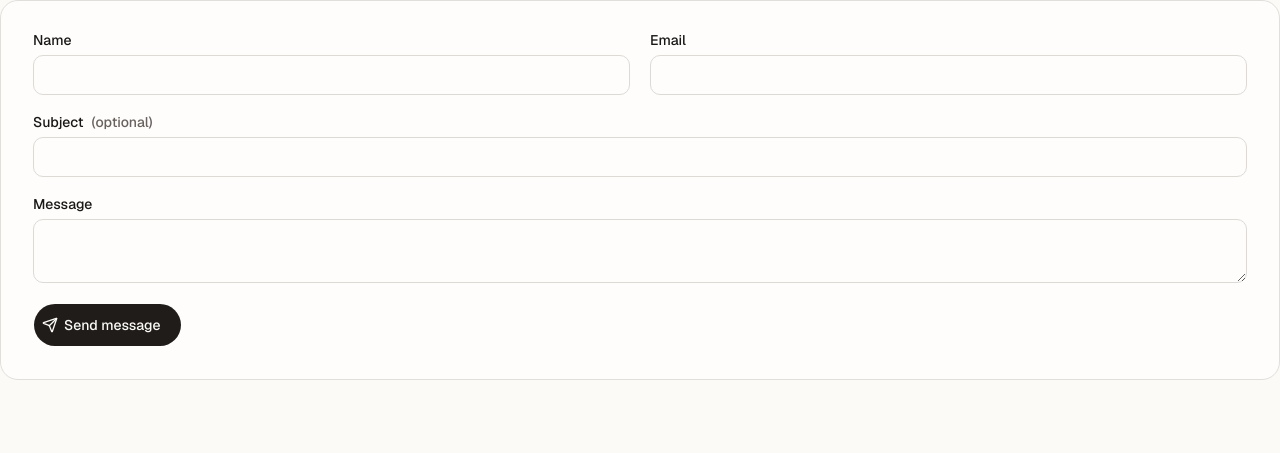
Test: ContactForm › surfaces server errors
This screenshot has width=1280, height=453.
Type "Jamie Doe" into the field labelled "Name" at (332, 75), box [33,55,630,95]
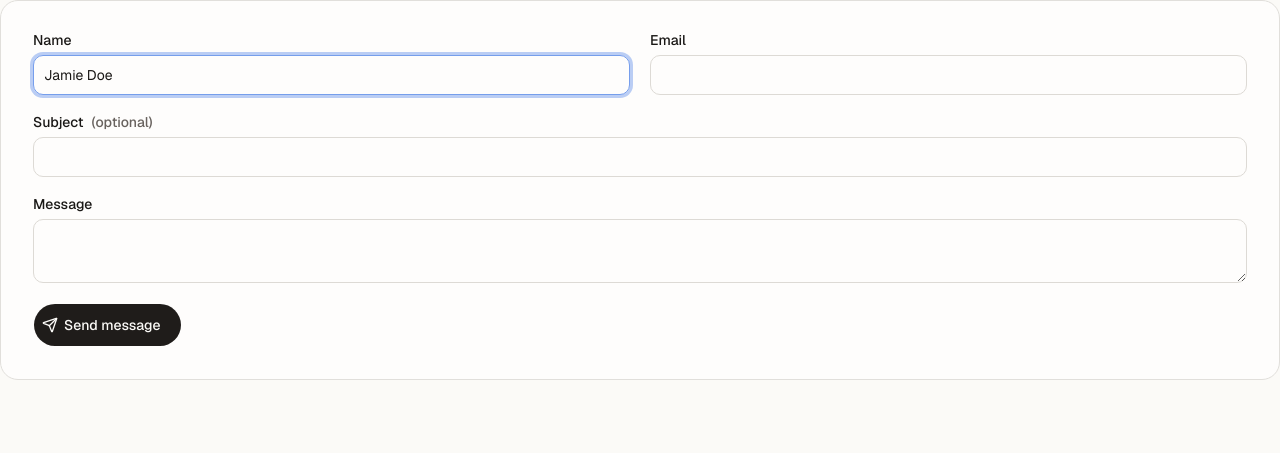
Type "jamie@example.com" into the field labelled "Email" at (948, 75), box [650,55,1247,95]
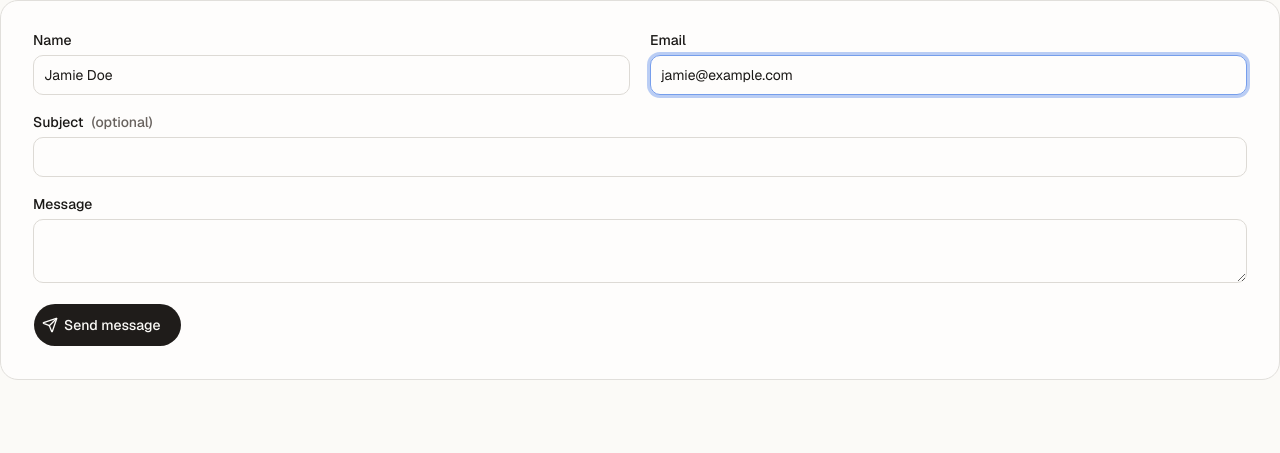
Type "I'd love to work together on a project." into the text box labelled "Message" at (640, 251), box [33,219,1247,283]
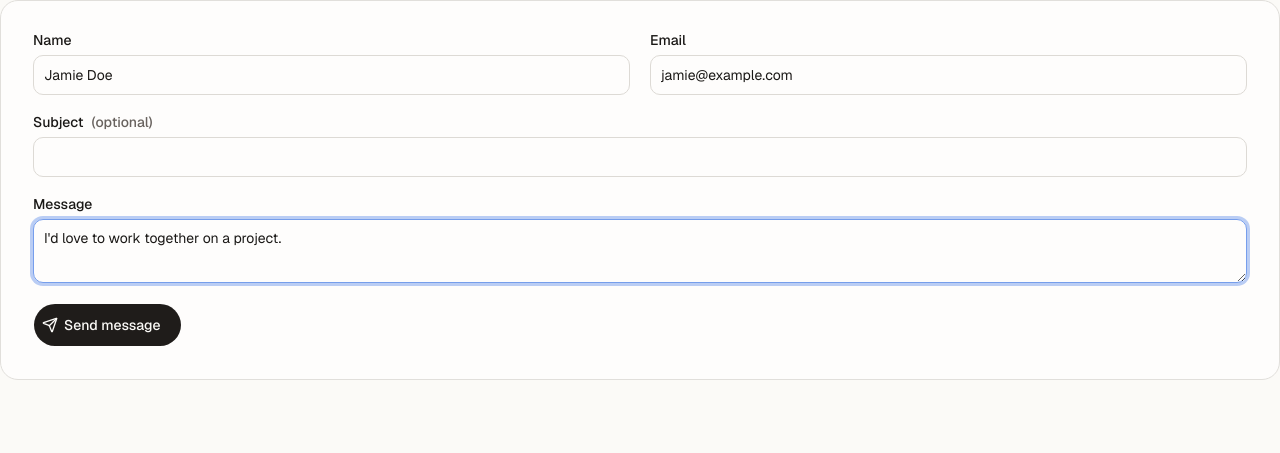
Click the button "Send message" at (107, 325), box [33,303,182,347]
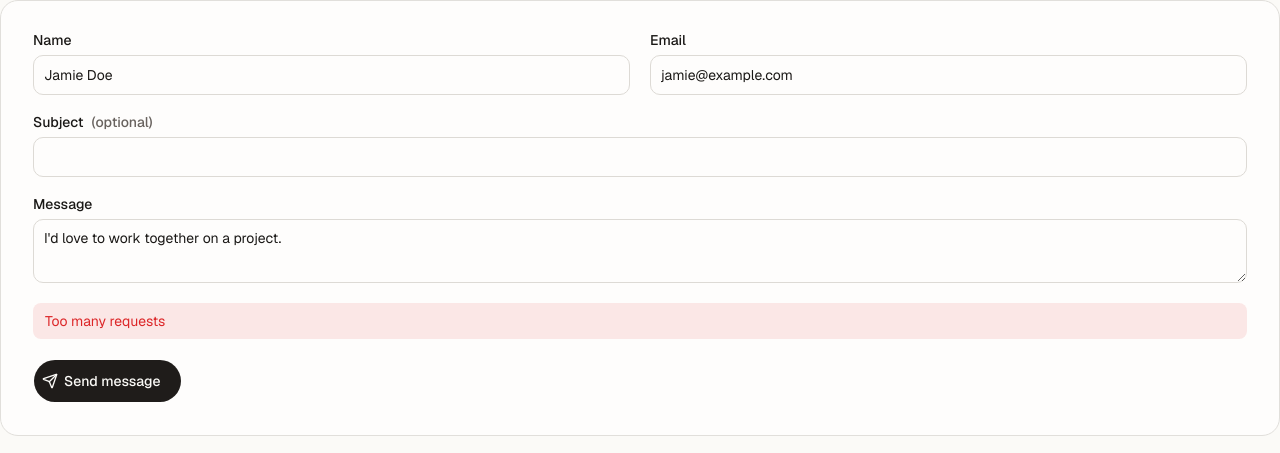
expect the message reads "Too many requests": met, box [45,312,165,330]
